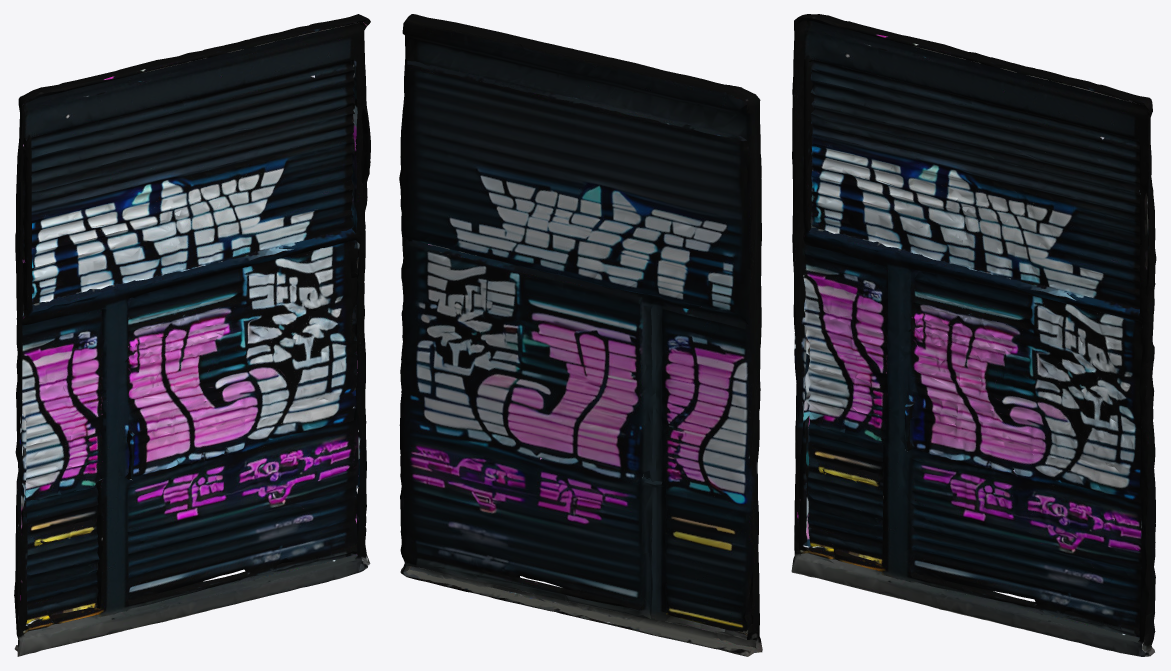
The model's file is storefront_facade_001_001.glb.
The picture shows the model from 3 angles, left to right: view 1: azimuth 30°, elevation 25°; view 2: azimuth 150°, elevation 25°; view 3: azimuth 330°, elevation 25°; orthographic projection.
Visible parts, largest first — view 1: storefront_facade_001_001_LOD0; view 2: storefront_facade_001_001_LOD0; view 3: storefront_facade_001_001_LOD0.
Boxes of the visible parts, left/top/right/bottom form: storefront_facade_001_001_LOD0: left=14, top=14, right=370, bottom=656; storefront_facade_001_001_LOD0: left=399, top=14, right=762, bottom=656; storefront_facade_001_001_LOD0: left=791, top=14, right=1156, bottom=656.
Size of what is drawn, in the model's own units: 2.98 by 4.5 by 0.1732.
Materials: 1 (1 with a texture image).
